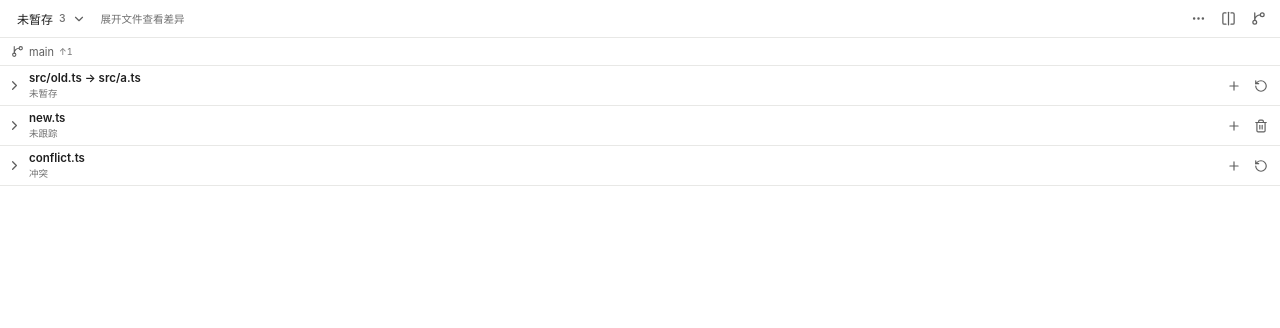
GitReviewPanel › 仅在激活且展开时读取差异，并缓存结果安全渲染
Expected: the text "main" is shown, [29,44,54,58]
Expected: the text "src/old.ts → src/a.ts" is shown, [29,71,141,85]
Click the button with aria-label "展开 src/old.ts → src/a.ts".
click(85, 78)  # box [4,69,1169,102]
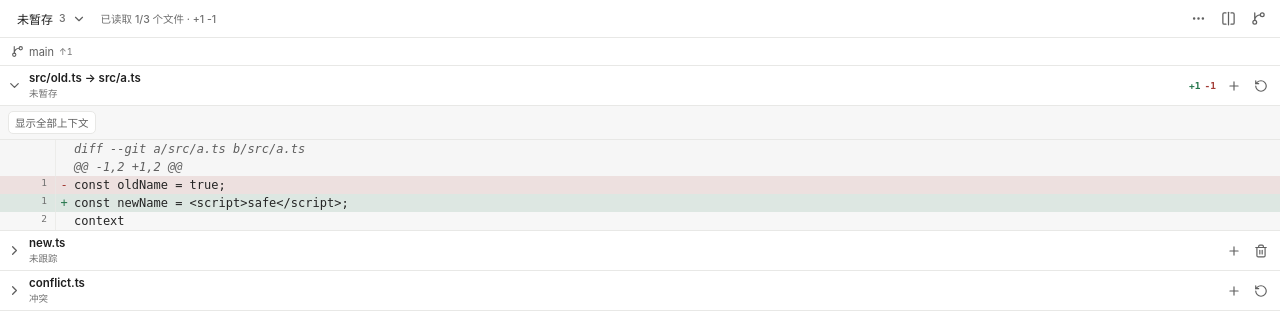
Expected: the text "已读取 1/3 个文件 · +1 -1" is shown, [101,11,216,26]
Expected: the text "<script>safe</script>" is shown, [190,196,341,210]
Click the button with aria-label "折叠 src/old.ts → src/a.ts".
click(85, 78)  # box [4,69,1169,102]
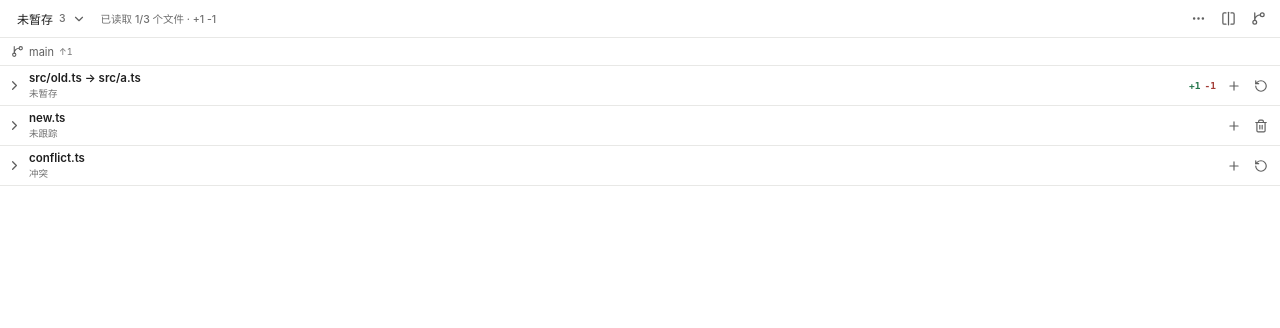
Click the button with aria-label "展开 src/old.ts → src/a.ts".
click(85, 78)  # box [4,69,1169,102]
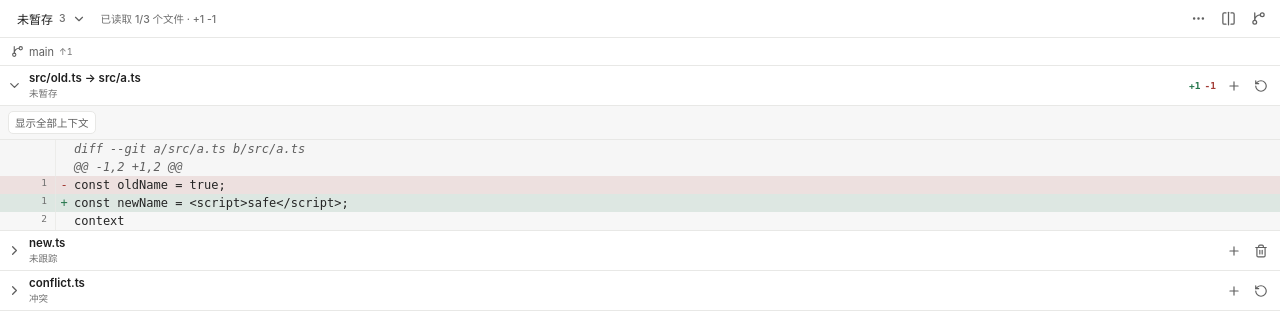
Expected: the text "<script>safe</script>" is shown, [190,196,341,210]
